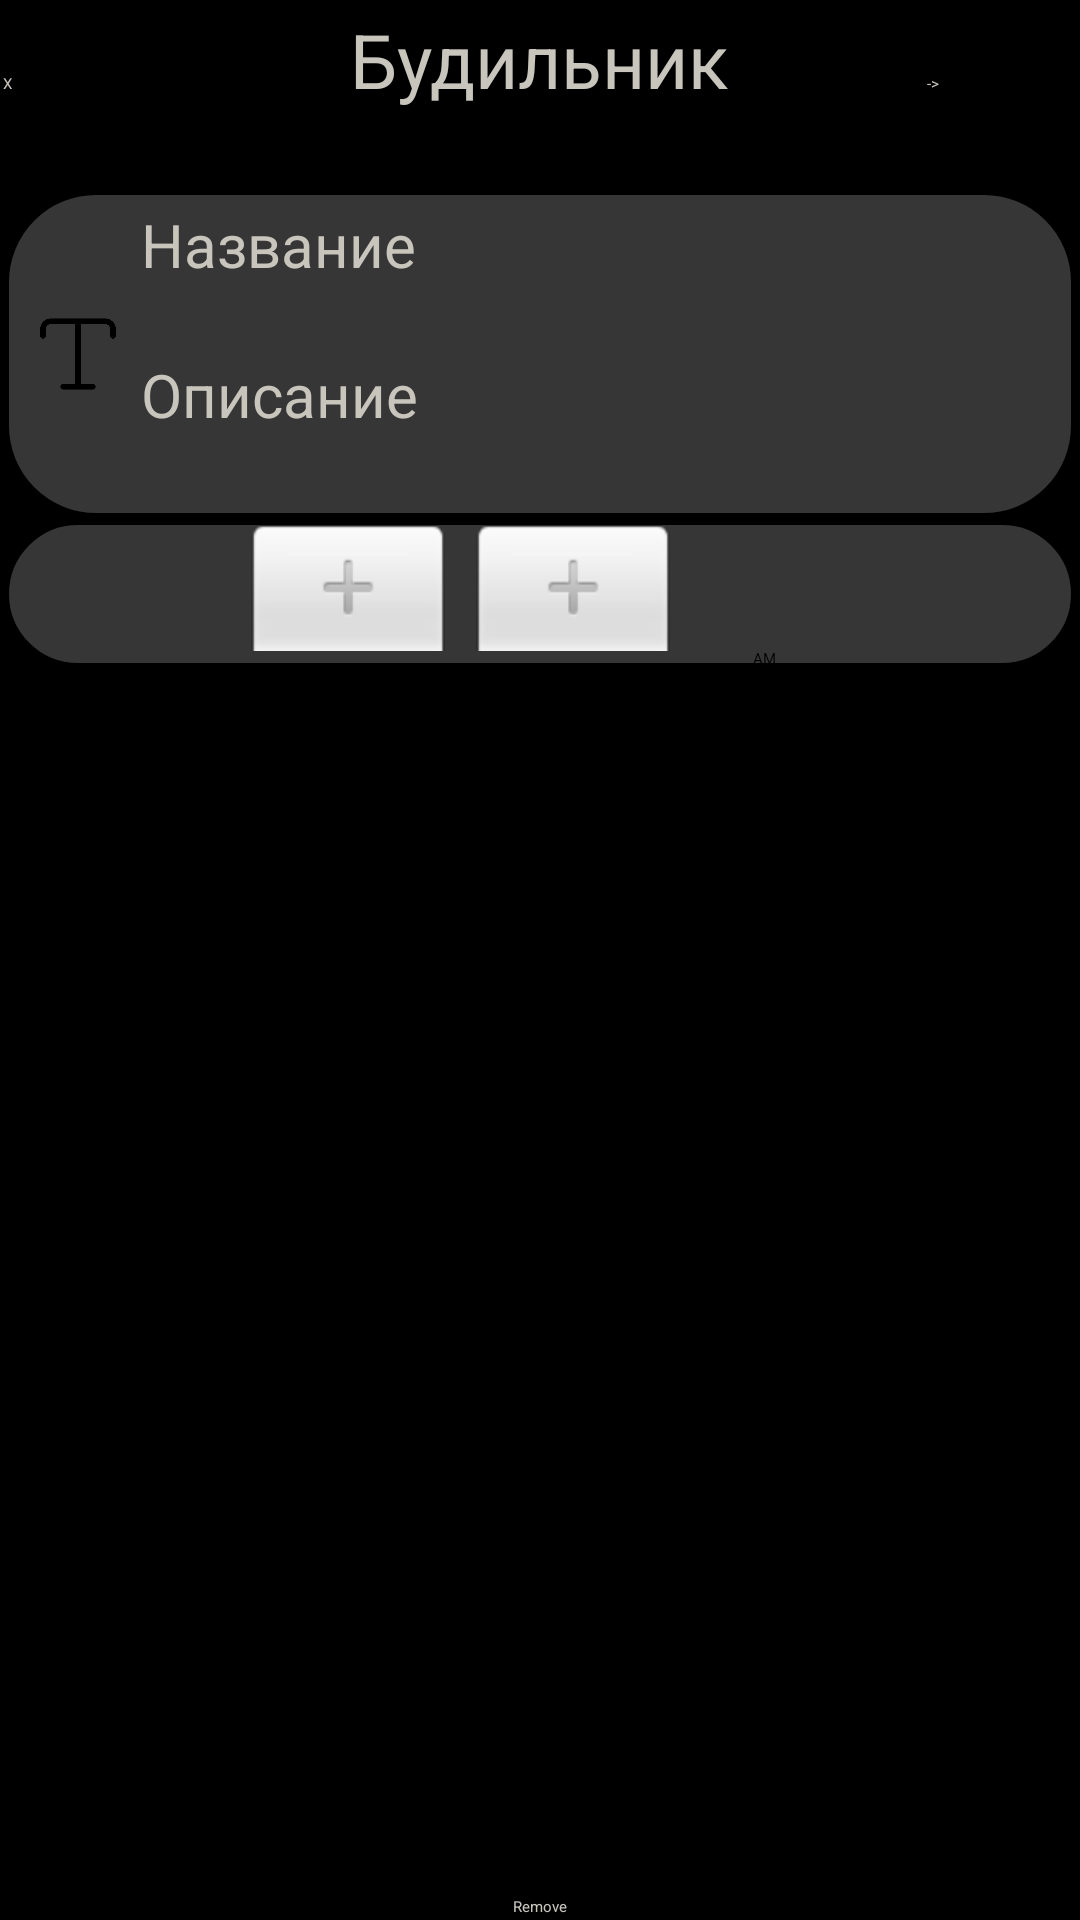

Named icons in this screenshot (1080*1920) and their centers, (x=x, y=y):
text: (x=78, y=354)
